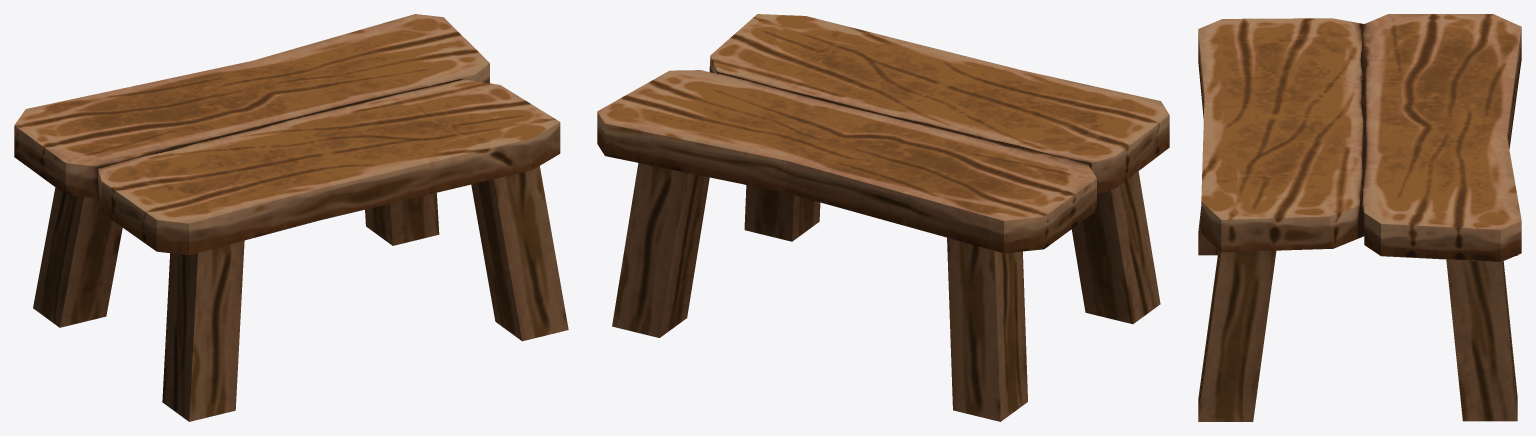
Rendered from Table_1.fbx.
3 views of the same model, side by side, from view 1: azimuth 30°, elevation 25°; view 2: azimuth 150°, elevation 25°; view 3: azimuth 270°, elevation 25° (orthographic). The views are drawn at different scales.
Parts seen in each view (by area): view 1: Table_1; view 2: Table_1; view 3: Table_1.
Boxes of the visible parts, x1,y1,x2,y2 form: Table_1: (14, 14, 568, 421); Table_1: (597, 14, 1169, 421); Table_1: (1198, 14, 1521, 421).
Bounding box in the file's own units: 2.56 × 1.12 × 1.62.
